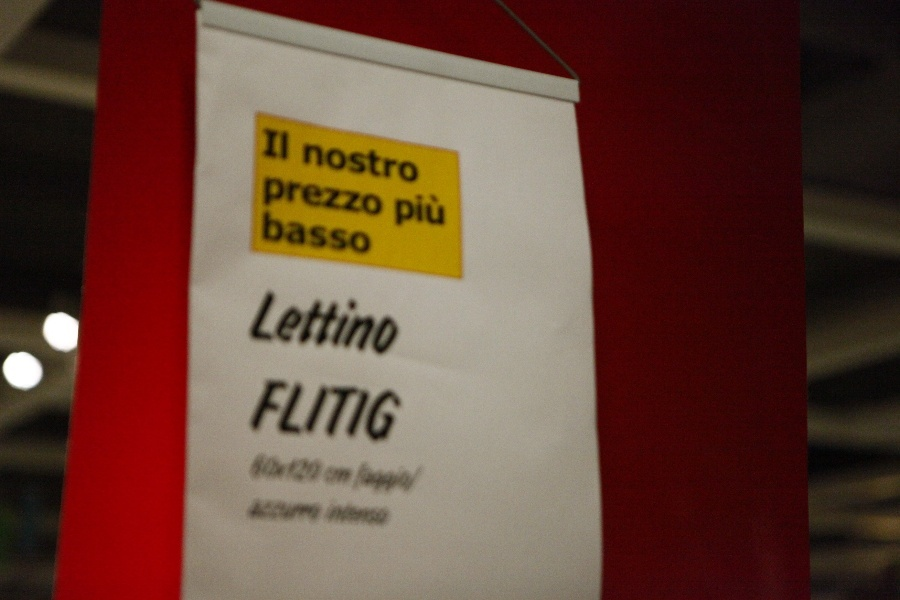text: (273, 375, 288, 446), (289, 375, 304, 446), (305, 375, 320, 446), (321, 375, 336, 446), (337, 375, 352, 446), (353, 375, 368, 446), (369, 375, 384, 446), (385, 375, 400, 446), (273, 290, 288, 358), (289, 290, 304, 358), (305, 290, 320, 358), (321, 290, 336, 358), (337, 290, 352, 358), (353, 290, 368, 358), (369, 290, 384, 358), (385, 290, 400, 358), (273, 208, 288, 258), (289, 208, 304, 258), (305, 208, 320, 258), (321, 208, 336, 258), (337, 208, 352, 258), (353, 208, 368, 258), (263, 375, 272, 446), (273, 175, 288, 217), (289, 175, 304, 217), (305, 175, 320, 217), (321, 175, 336, 217), (337, 175, 352, 217), (353, 175, 368, 217), (369, 175, 384, 217), (305, 144, 320, 184), (321, 144, 336, 184), (337, 144, 352, 184), (353, 144, 368, 184), (369, 144, 384, 184), (385, 144, 400, 184), (401, 144, 416, 184), (369, 458, 384, 498), (385, 458, 400, 498), (401, 458, 416, 498), (257, 451, 272, 488), (273, 451, 288, 488), (289, 451, 304, 488), (305, 451, 320, 488), (401, 192, 416, 228), (417, 192, 432, 228), (433, 192, 447, 228), (262, 208, 272, 258), (401, 375, 408, 446), (273, 127, 288, 160), (337, 498, 352, 531), (353, 498, 368, 531), (369, 498, 384, 531), (417, 458, 429, 498), (401, 290, 408, 358), (257, 496, 272, 527), (273, 496, 288, 527), (289, 496, 304, 527), (305, 496, 320, 527), (266, 290, 272, 358), (263, 175, 272, 217), (337, 466, 352, 490), (385, 498, 395, 531), (263, 127, 272, 160), (321, 451, 329, 488), (361, 458, 368, 498), (325, 466, 336, 490), (369, 208, 374, 258), (329, 498, 336, 531), (250, 496, 256, 527), (395, 192, 400, 228), (321, 496, 326, 527), (417, 144, 419, 184), (254, 451, 256, 488), (353, 466, 356, 490), (303, 144, 304, 184), (289, 127, 290, 160)
